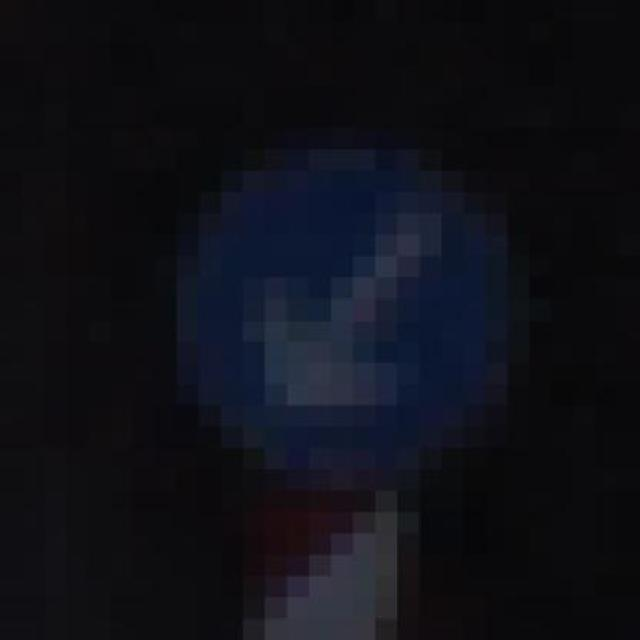Keep-Left: (154, 128, 552, 534)
